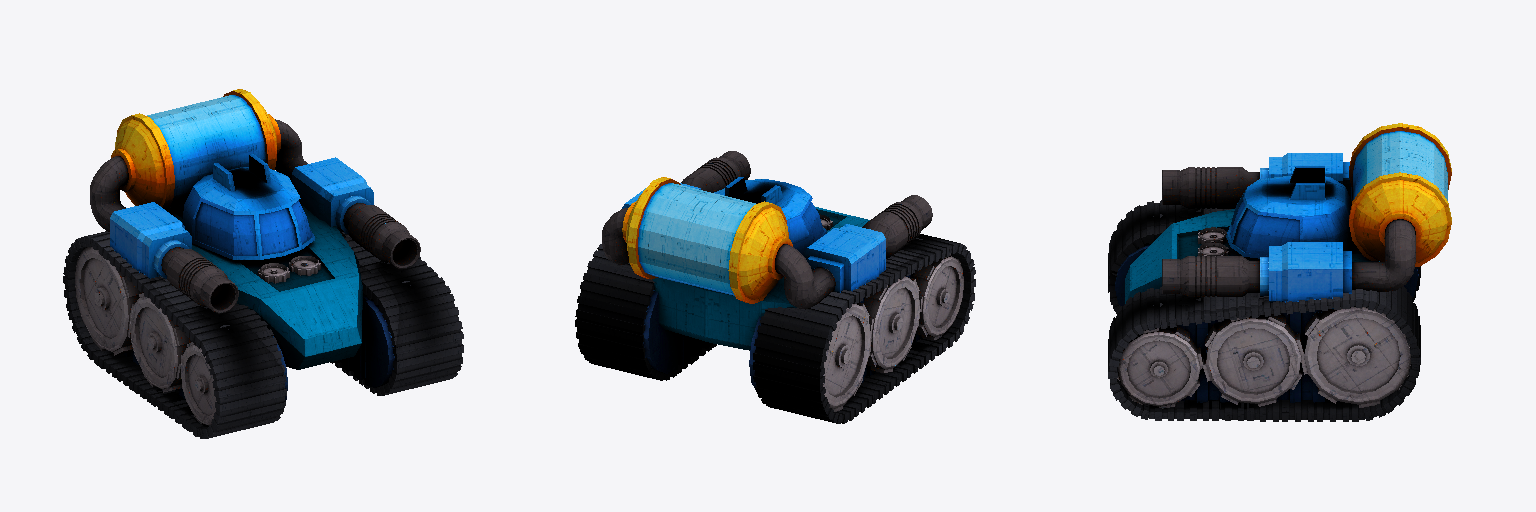
3 views of the same model, side by side, from view 1: azimuth 30°, elevation 25°; view 2: azimuth 150°, elevation 25°; view 3: azimuth 270°, elevation 25° (orthographic).
Visible parts, largest first — view 1: Object001, Box042, Object004, Object003, Object002; view 2: Object001, Box042, Object003, Object004, Object002; view 3: Object001, Box042, Object004, Object003, Object002.
Boxes of the visible parts, <box> form: Object001: <box>90,89,420,400</box>; Box042: <box>63,231,463,438</box>; Object004: <box>75,247,142,355</box>; Object003: <box>130,293,191,392</box>; Object002: <box>180,342,216,425</box>; Object001: <box>602,151,932,389</box>; Box042: <box>575,234,975,423</box>; Object003: <box>864,276,919,372</box>; Object004: <box>823,302,871,411</box>; Object002: <box>913,253,963,339</box>; Object001: <box>1115,123,1451,402</box>; Box042: <box>1108,200,1420,421</box>; Object004: <box>1301,306,1410,407</box>; Object003: <box>1202,314,1303,406</box>; Object002: <box>1117,325,1203,408</box>.
Size of the model in its own units: 121 by 100 by 147.
Materials: 2 (2 with a texture image).